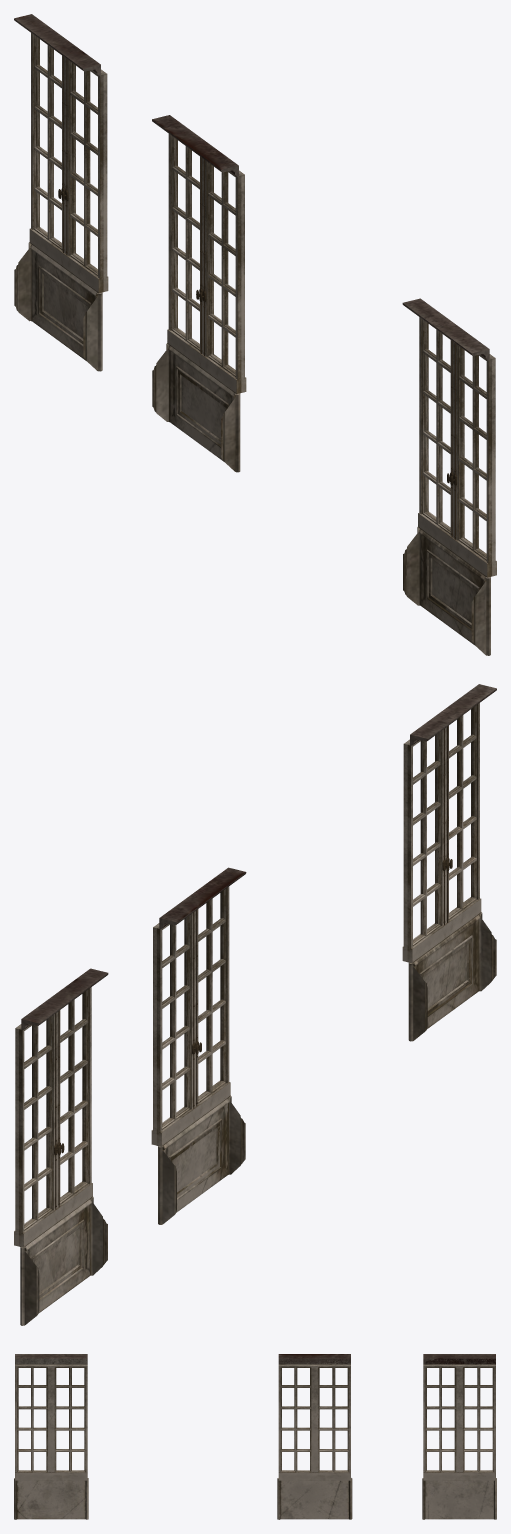
File: admissions_gallery.glb
3 renders of one model, top to bottom at view 1: azimuth 30°, elevation 25°; view 2: azimuth 150°, elevation 25°; view 3: azimuth 270°, elevation 25°, orthographic. The views are drawn at different scales.
Parts seen in each view (by area): view 1: admissions_gallery; view 2: admissions_gallery; view 3: admissions_gallery.
Boxes of the visible parts, left/top/right/bottom form: admissions_gallery: left=14, top=14, right=496, bottom=655; admissions_gallery: left=14, top=684, right=496, bottom=1325; admissions_gallery: left=14, top=1354, right=496, bottom=1519.
Bounding box in the file's own units: 0.2211 × 2.55 × 6.94.
5 materials, 5 textured.
